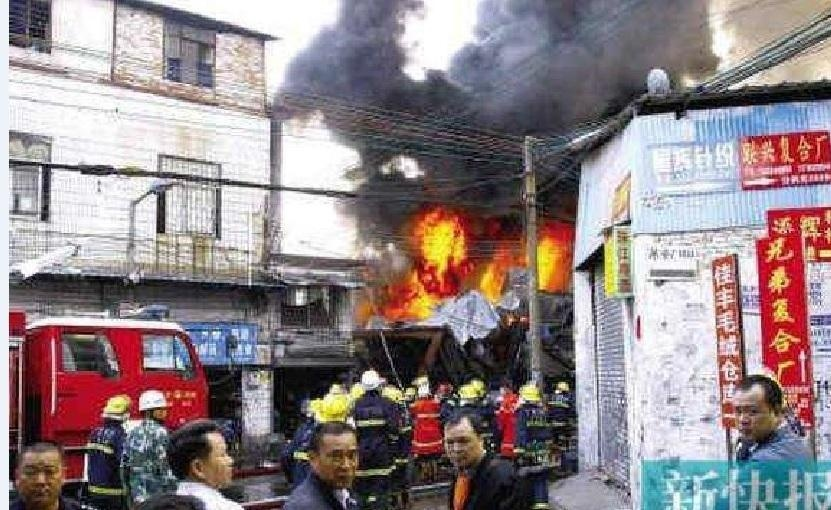fire: (387, 208, 487, 321), (533, 227, 568, 287)
